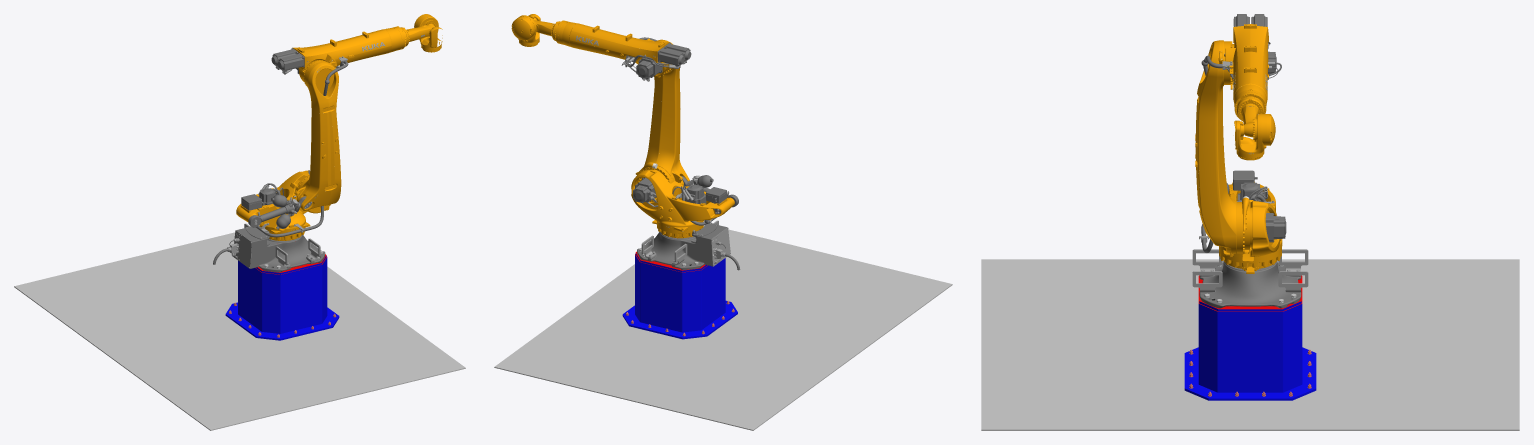
File: arm_robot.glb
3 views of the same model, side by side, from view 1: azimuth 30°, elevation 25°; view 2: azimuth 150°, elevation 25°; view 3: azimuth 270°, elevation 25° (orthographic). The views are drawn at different scales.
Visible parts, largest first — view 1: arm robot.SLDPRT; view 2: arm robot.SLDPRT; view 3: arm robot.SLDPRT.
Boxes of the visible parts, x1,y1,x2,y2 form: arm robot.SLDPRT: [14, 14, 465, 430]; arm robot.SLDPRT: [494, 14, 952, 430]; arm robot.SLDPRT: [981, 14, 1519, 430].
Bounding box in the file's own units: 3.87 × 3.05 × 4.
